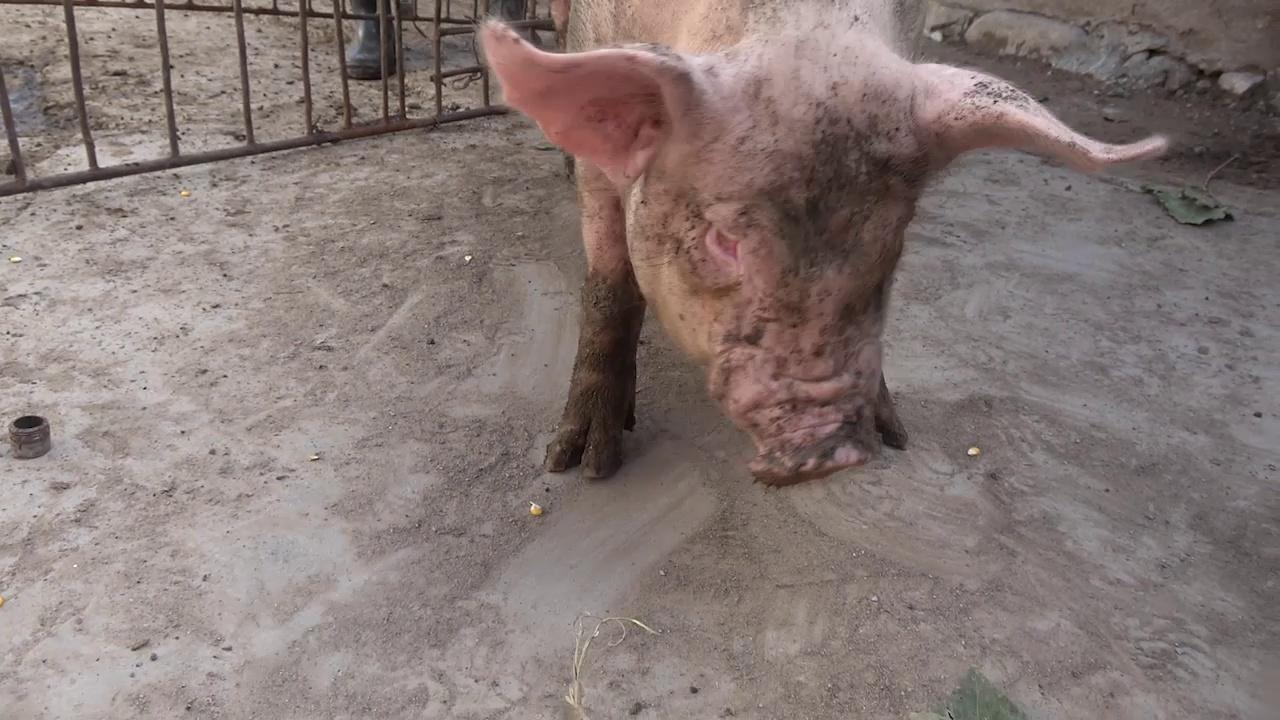Face: (460, 6, 1188, 503)
